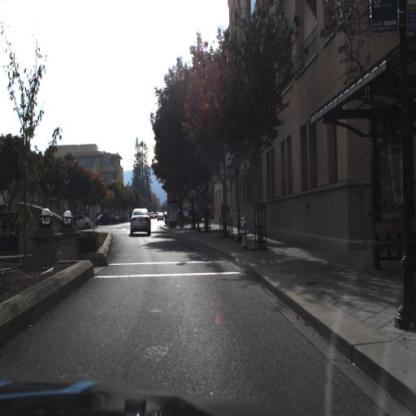car: (131, 208, 154, 240), (72, 213, 95, 236)
pedestrian: (221, 200, 230, 231), (220, 200, 227, 219)
